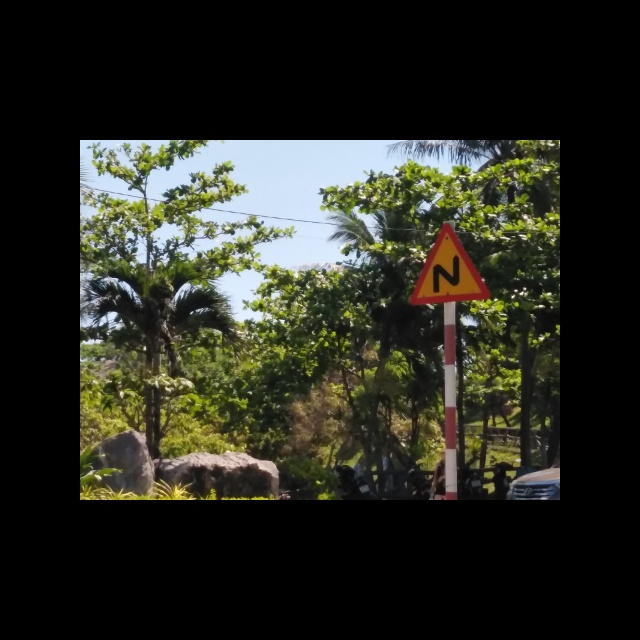Ngoặt nguy hiểm liên tiếp bên phải: (410, 219, 491, 305)
